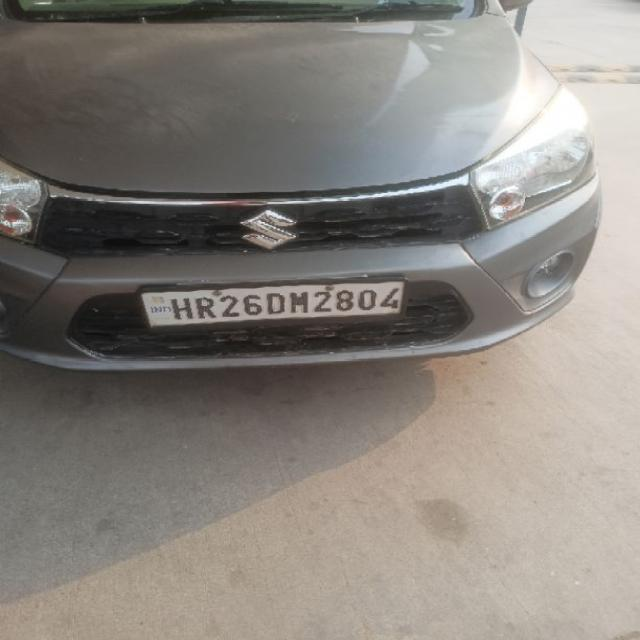license_plate: (135, 278, 408, 328)
